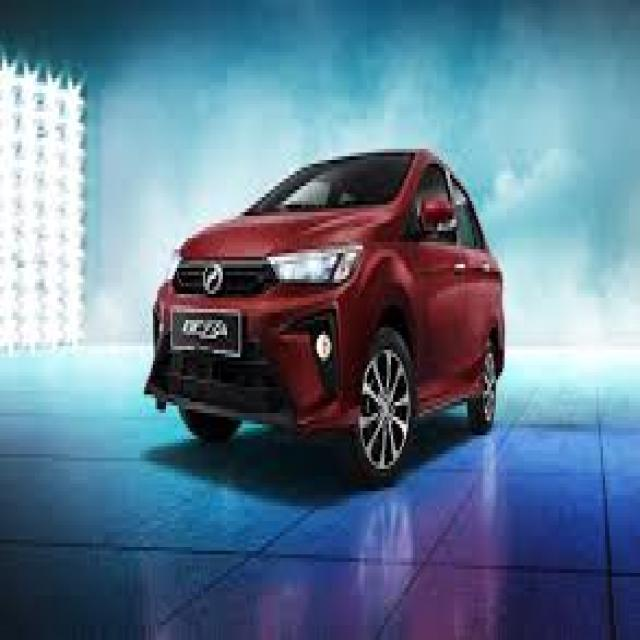PeroduaBezza: (142, 145, 505, 484)
